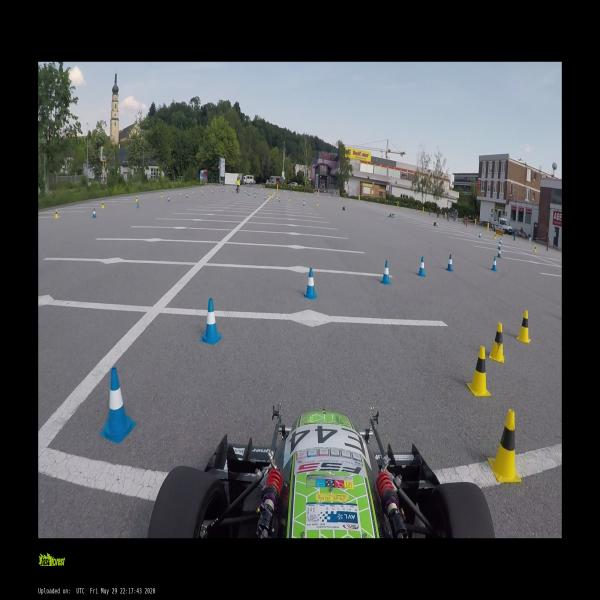blue_cone: (99, 367, 136, 443), (202, 299, 220, 342), (304, 268, 316, 298), (381, 260, 391, 284), (417, 257, 425, 276), (446, 254, 453, 271), (491, 257, 497, 271), (496, 247, 502, 259), (497, 240, 501, 251), (92, 208, 96, 218), (499, 237, 502, 247), (478, 231, 482, 238), (185, 193, 188, 199), (303, 200, 305, 206), (436, 221, 438, 226), (279, 197, 281, 202), (168, 196, 169, 202)
yellow_cone: (490, 410, 521, 483), (468, 347, 490, 397), (489, 322, 505, 364), (516, 310, 531, 344), (54, 208, 58, 219), (101, 201, 104, 209), (135, 196, 138, 202), (316, 200, 319, 206), (534, 245, 536, 252), (494, 233, 496, 240), (160, 192, 162, 198), (178, 191, 181, 195), (288, 196, 290, 201)
